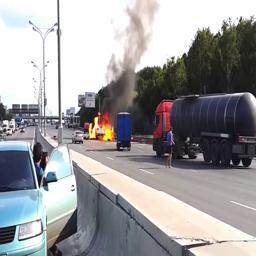fire: (90, 112, 114, 141)
